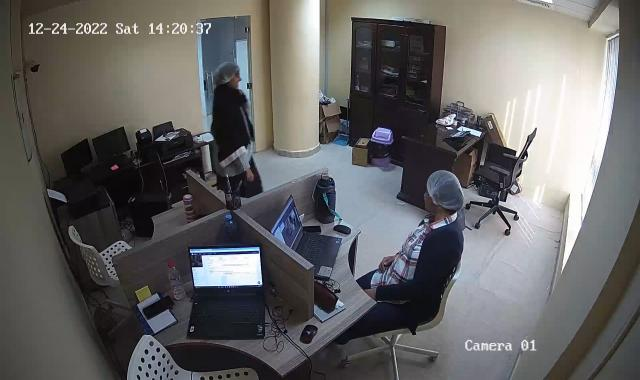hairnet: (424, 172, 464, 217), (217, 60, 240, 90)
